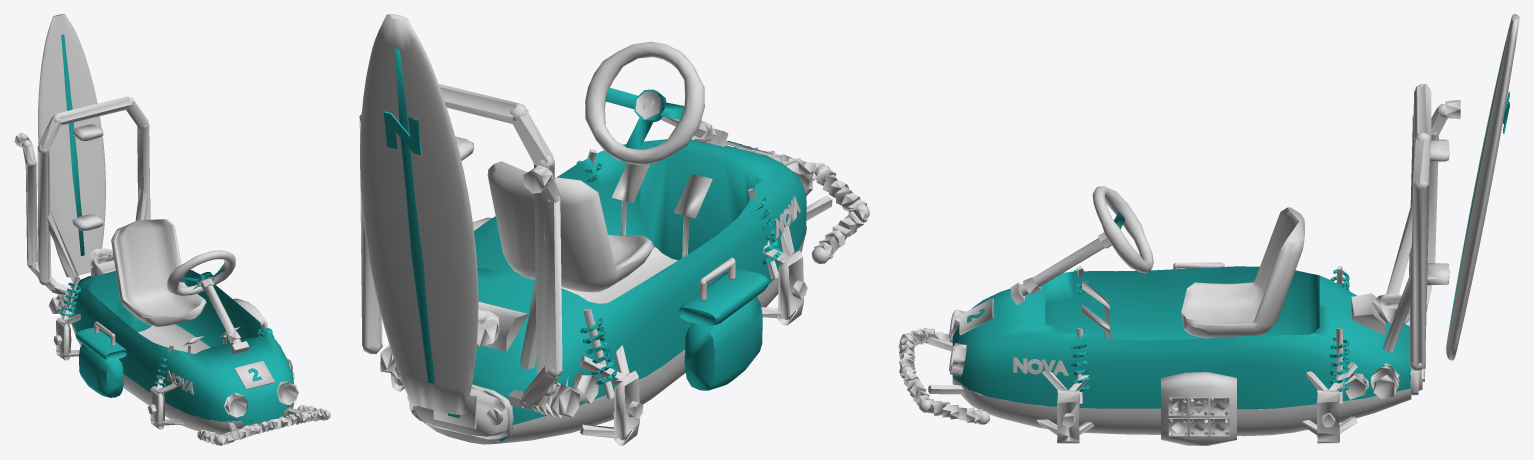
File: Kart_Buggy_Far.fbx
3 renders of one model, left to right at view 1: azimuth 30°, elevation 25°; view 2: azimuth 150°, elevation 25°; view 3: azimuth 270°, elevation 25°, orthographic. The views are drawn at different scales.
Parts seen in each view (by area): view 1: Kart_Far; view 2: Kart_Far; view 3: Kart_Far.
Boxes of the visible parts, bbox=[...] form: Kart_Far: bbox=[14, 14, 330, 445]; Kart_Far: bbox=[359, 14, 869, 445]; Kart_Far: bbox=[898, 14, 1519, 445].
Size of the model in its own units: 0.7003 by 1.15 by 1.64.
